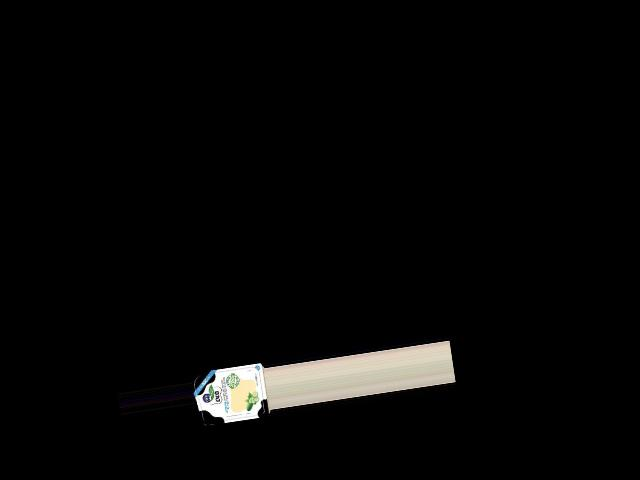cheese: (191, 359, 272, 429)
